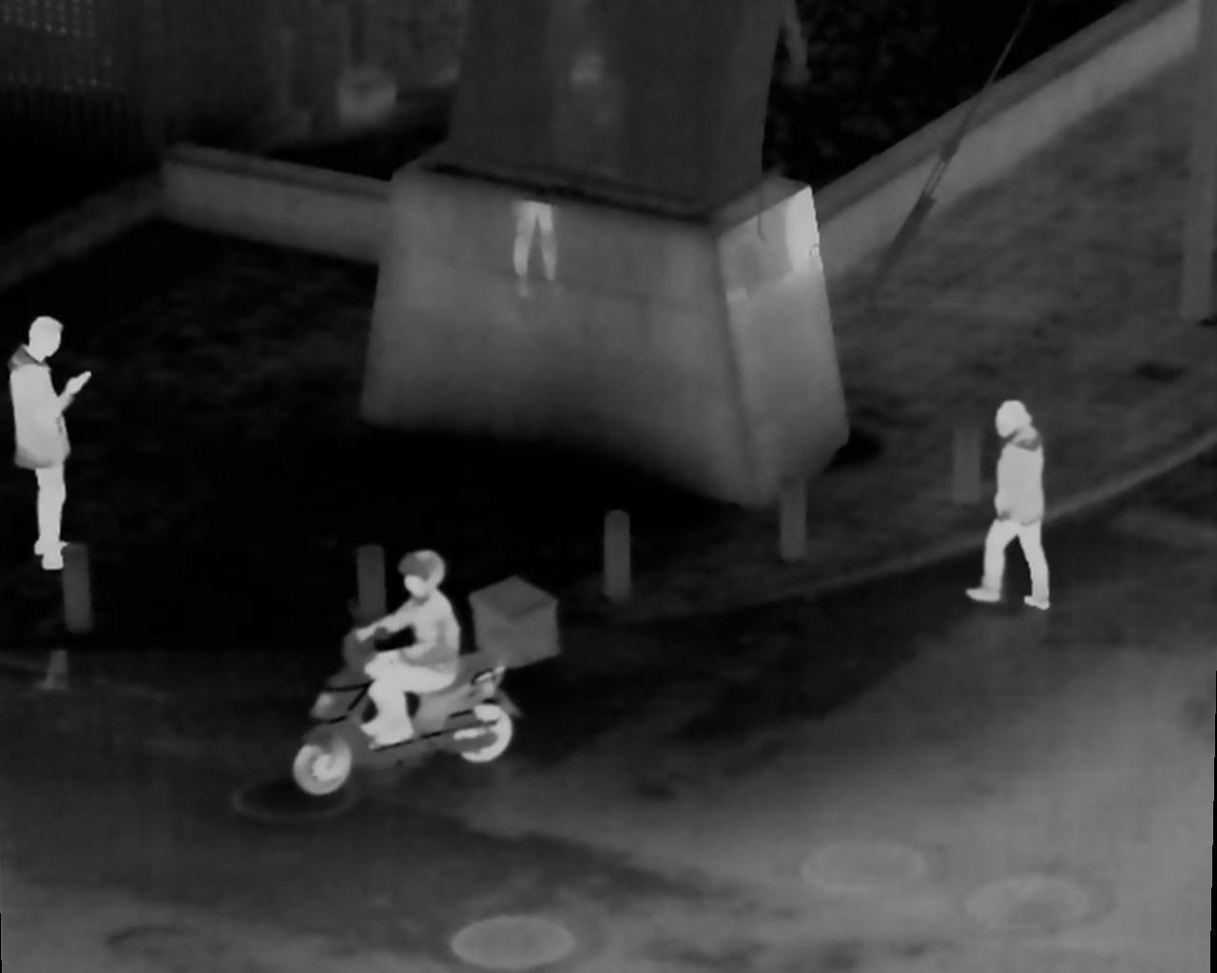person: (10, 315, 105, 571), (348, 552, 468, 745), (976, 397, 1050, 609)
